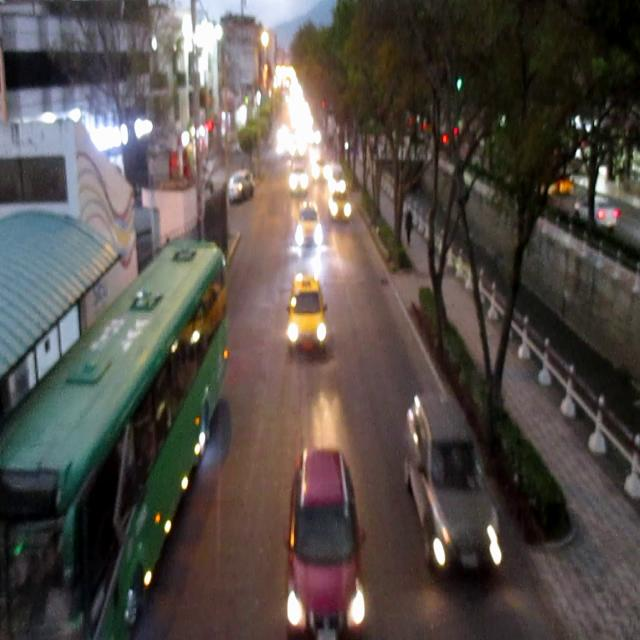BUS: (3, 241, 233, 639)
SUV: (406, 391, 504, 578), (286, 449, 362, 640), (230, 173, 254, 202)
